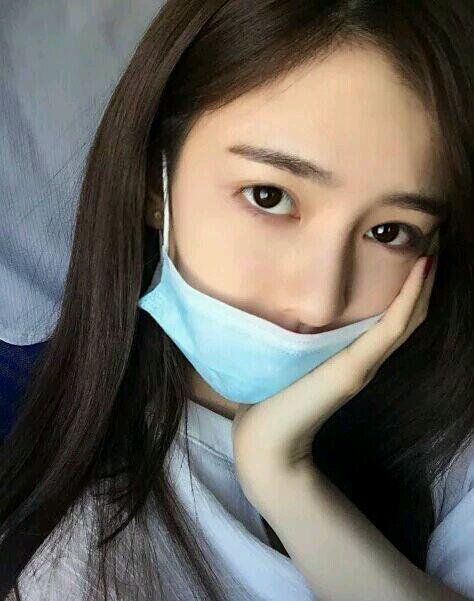WRONG: (153, 131, 428, 406)
